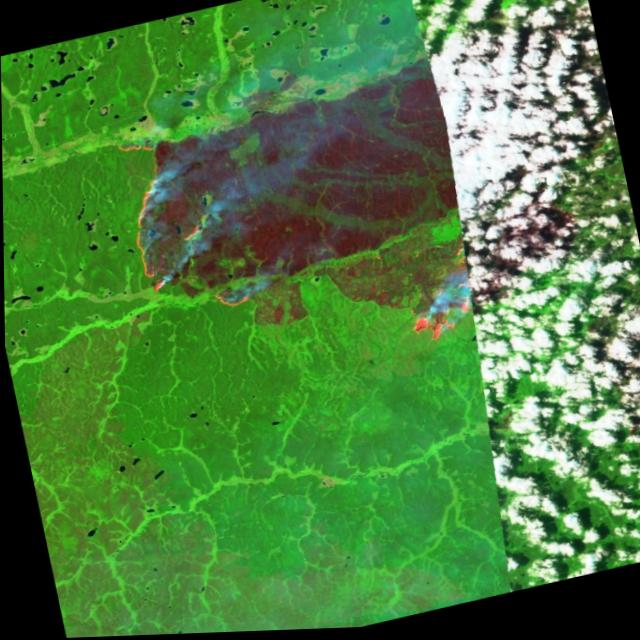fire: (104, 37, 513, 411)
